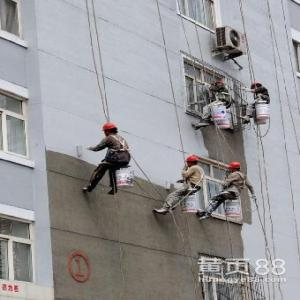red: (104, 123, 118, 136), (186, 156, 201, 168), (229, 161, 241, 173), (250, 82, 262, 91)
